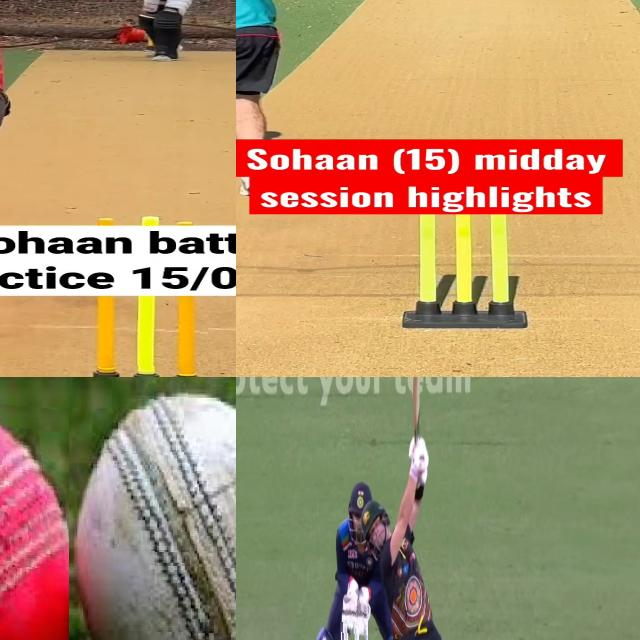Cricket ball: (68, 383, 236, 640), (0, 384, 69, 640)
Stumps: (81, 295, 208, 377), (338, 605, 368, 640)
